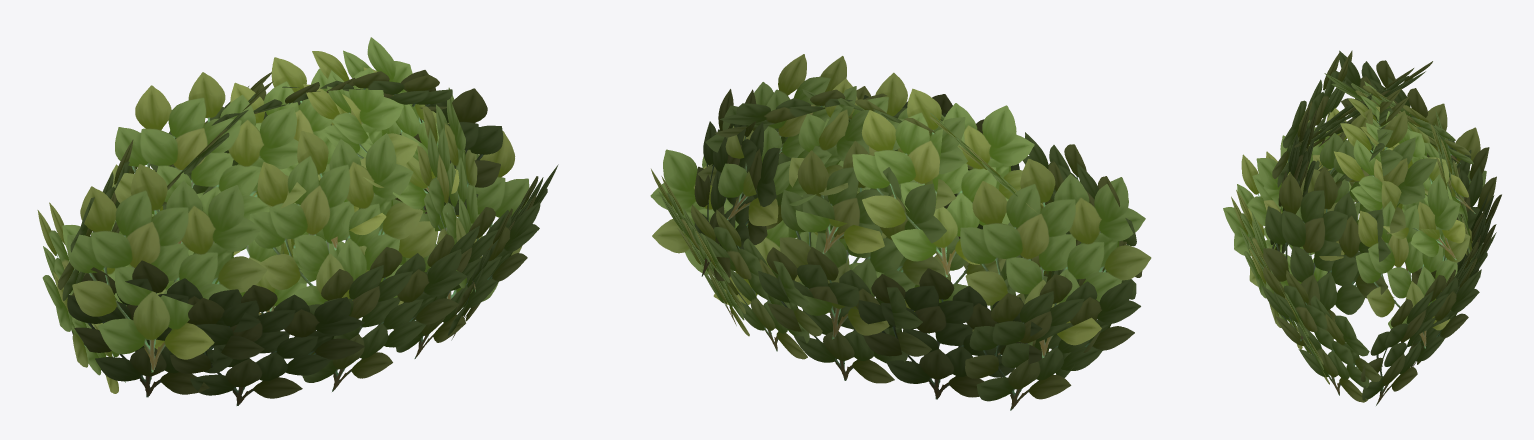
File: bush3.fbx
3 renders of one model, left to right at view 1: azimuth 30°, elevation 25°; view 2: azimuth 150°, elevation 25°; view 3: azimuth 270°, elevation 25°, orthographic. The views are drawn at different scales.
Visible parts, largest first — view 1: dark_bush.007; view 2: dark_bush.007; view 3: dark_bush.007.
Boxes of the visible parts, x1,y1,x2,y2 form: dark_bush.007: [37, 37, 558, 405]; dark_bush.007: [650, 54, 1151, 410]; dark_bush.007: [1223, 50, 1501, 405].
Bounding box in the file's own units: 2007 × 1180 × 1105.
